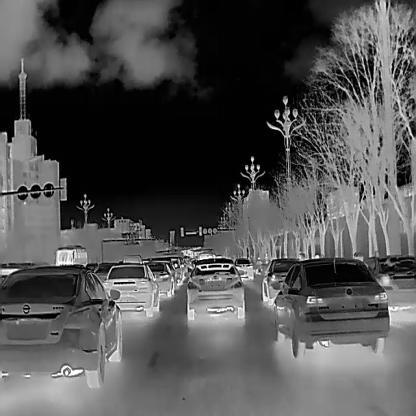car: (0, 263, 121, 388), (272, 256, 390, 357), (184, 258, 247, 322), (101, 261, 160, 317), (262, 256, 300, 304), (144, 259, 175, 298), (54, 245, 87, 266), (232, 255, 256, 282)
